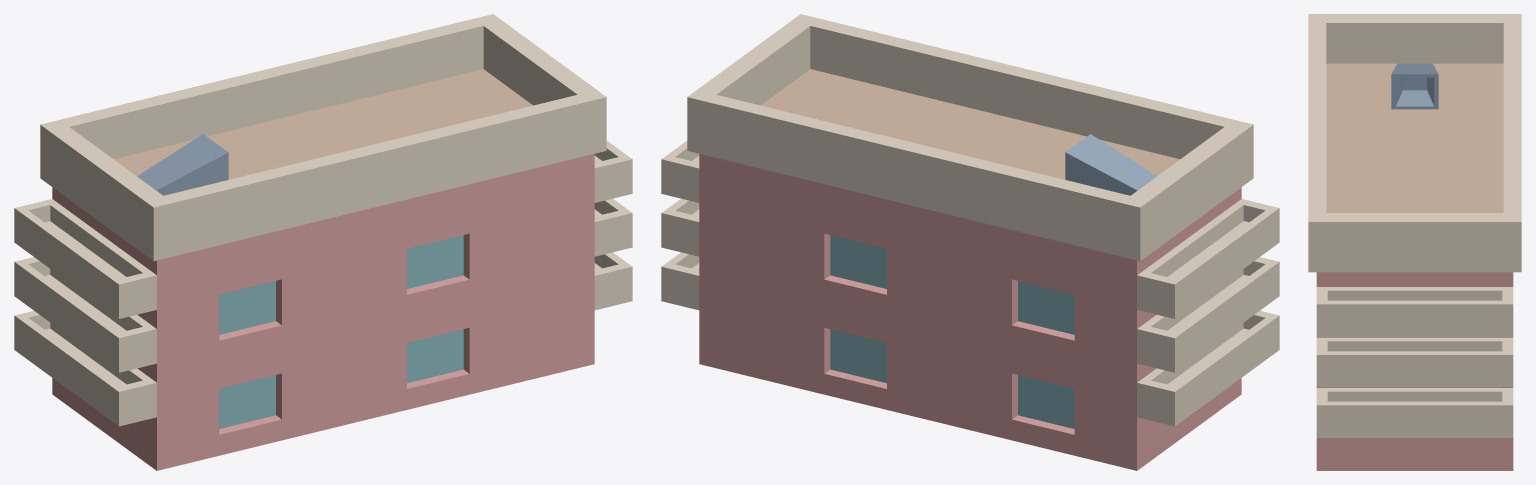
The model's file is house_6.fbx.
3 views of the same model, side by side, from view 1: azimuth 30°, elevation 25°; view 2: azimuth 150°, elevation 25°; view 3: azimuth 270°, elevation 25° (orthographic). The views are drawn at different scales.
Visible parts, largest first — view 1: polySurface317; view 2: polySurface317; view 3: polySurface317.
Part boxes in pixels (x1,y1,x2,y2): polySurface317: (14, 14, 632, 470); polySurface317: (661, 14, 1279, 470); polySurface317: (1308, 14, 1521, 470).
Size of the model in its own units: 43.07 by 16.49 by 21.52.
